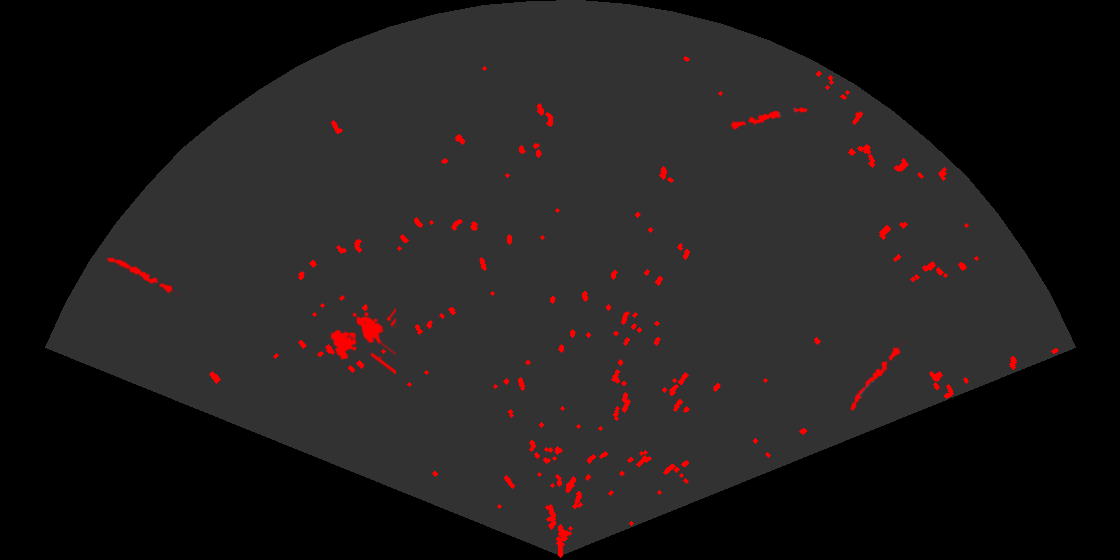cage: (329, 306, 396, 376)
chain: (849, 336, 907, 412), (105, 256, 180, 297), (726, 106, 810, 131)
